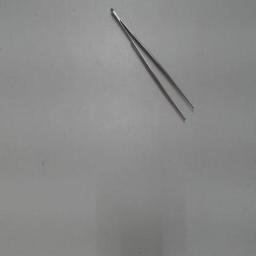Gillies Toothed Dissector: (105, 5, 199, 127)
